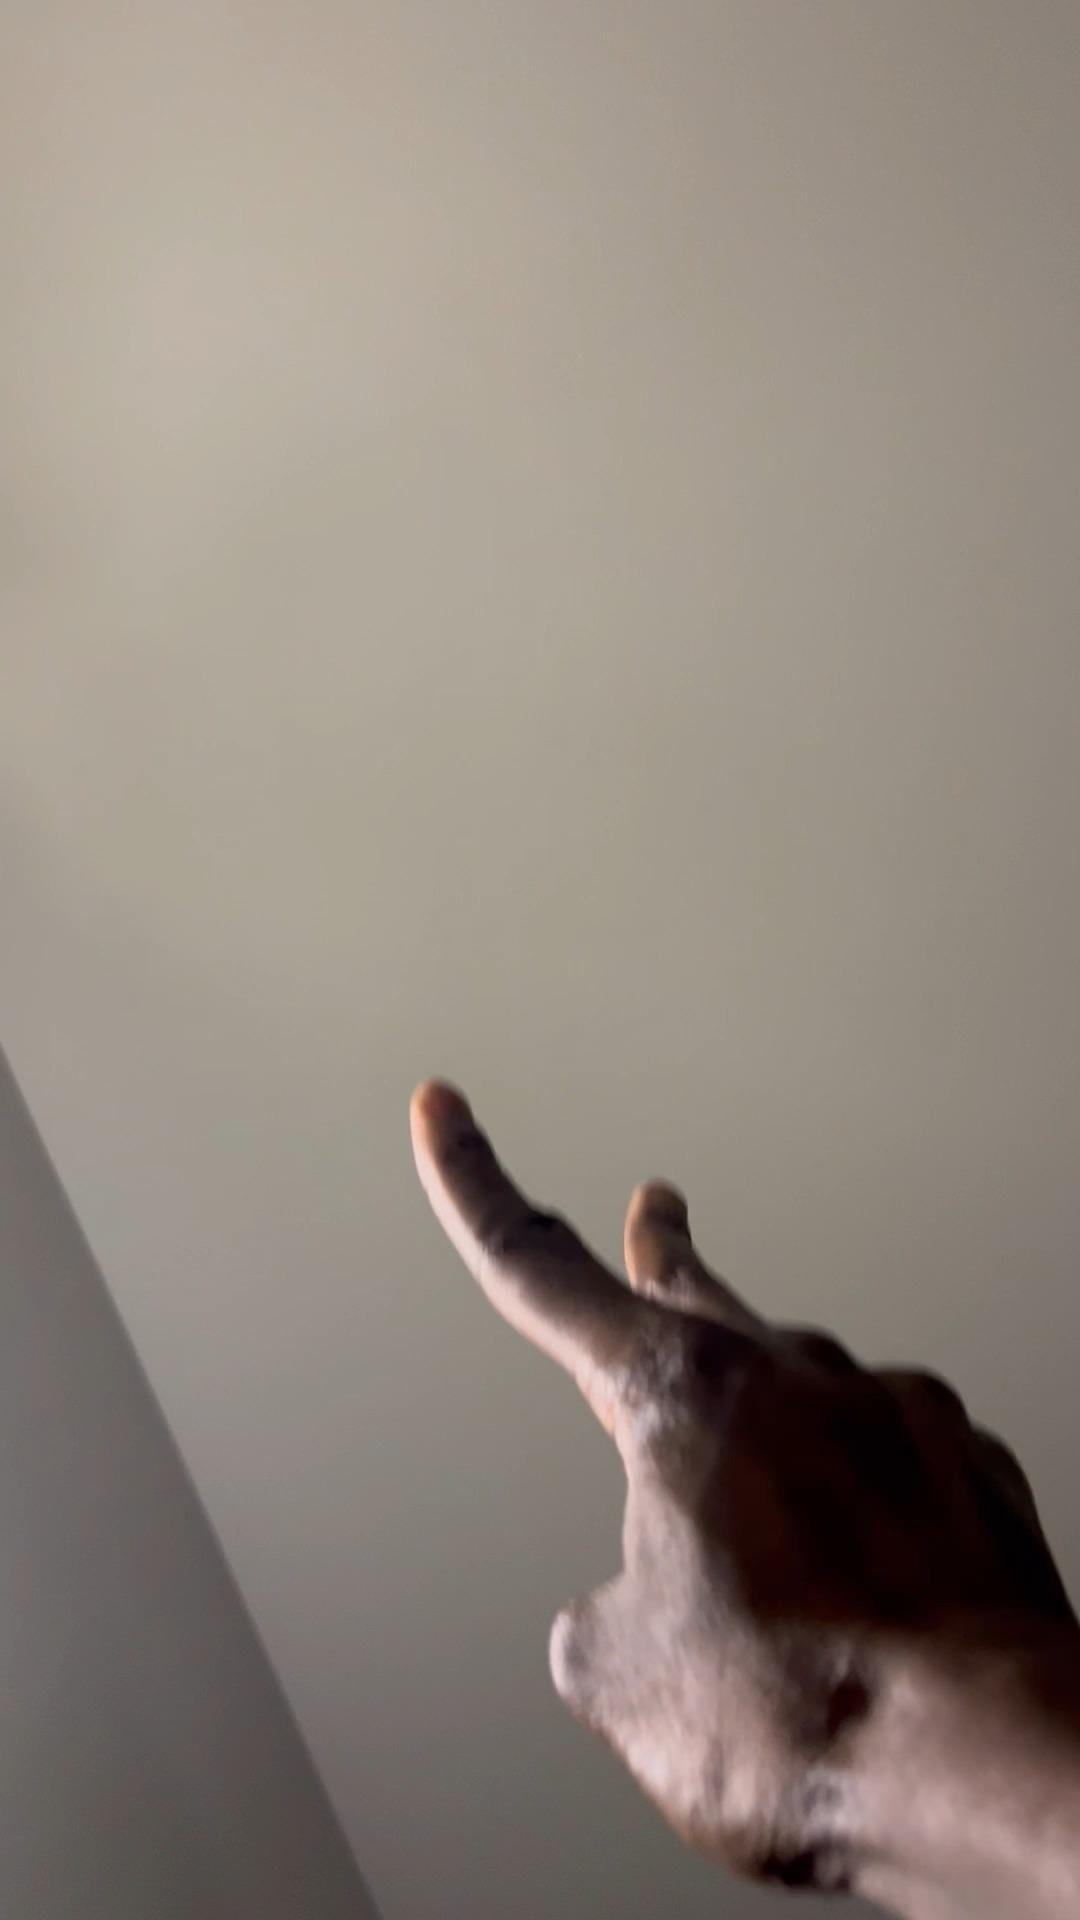Scissors: (404, 1069, 1075, 1905)
